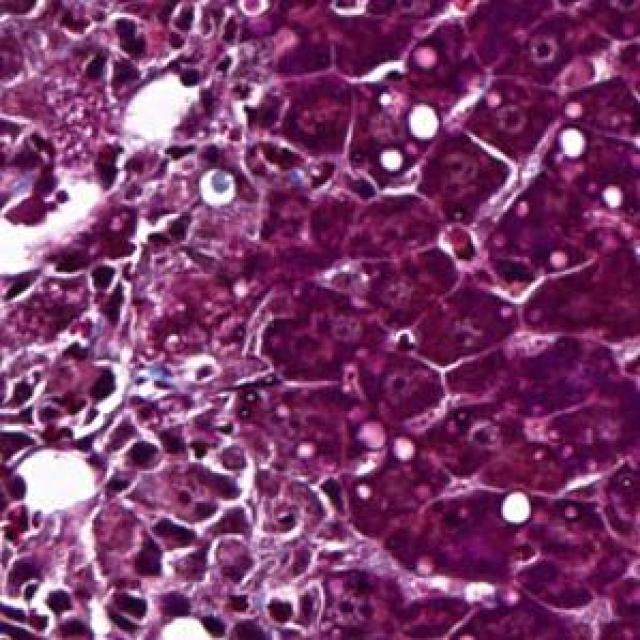ballooning: (0, 169, 107, 280)
